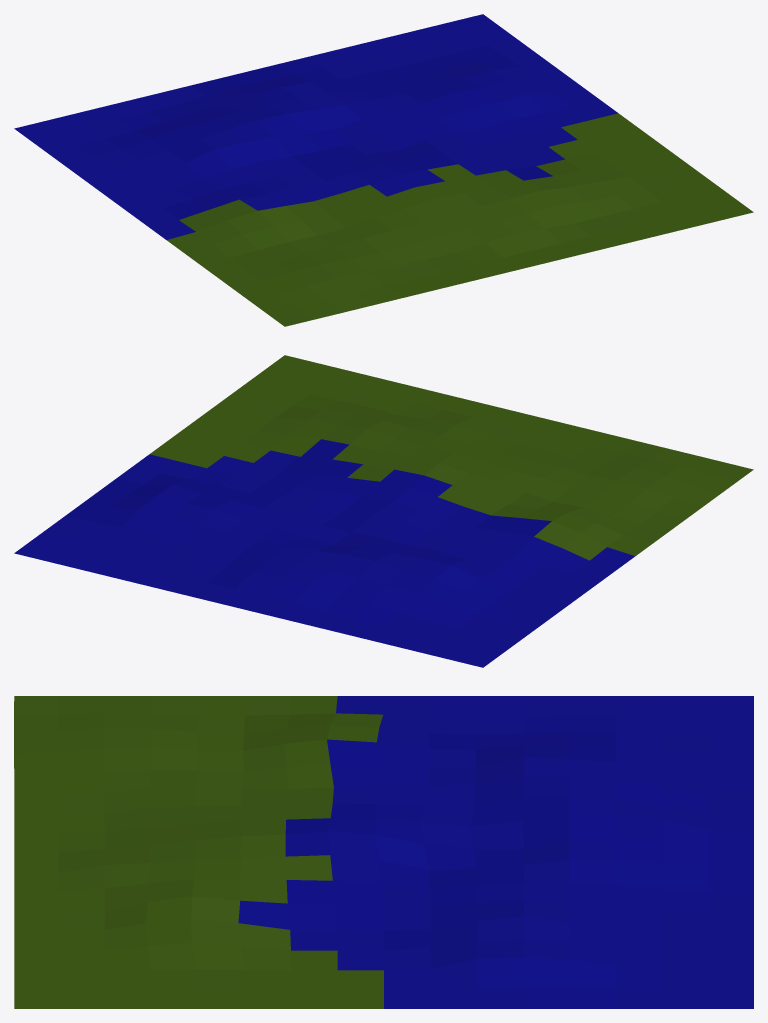
Rendered from Grass-Water4.FBX.
The picture shows the model from 3 angles, top to bottom: view 1: azimuth 30°, elevation 25°; view 2: azimuth 150°, elevation 25°; view 3: azimuth 270°, elevation 25°; orthographic projection. The views are drawn at different scales.
Parts seen in each view (by area): view 1: Terrain.003; view 2: Terrain.003; view 3: Terrain.003.
Boxes of the visible parts, x1,y1,x2,y2 form: Terrain.003: [14, 14, 753, 326]; Terrain.003: [14, 355, 753, 667]; Terrain.003: [14, 696, 753, 1008].
Bounding box in the file's own units: 800 × 800 × 23.83.
